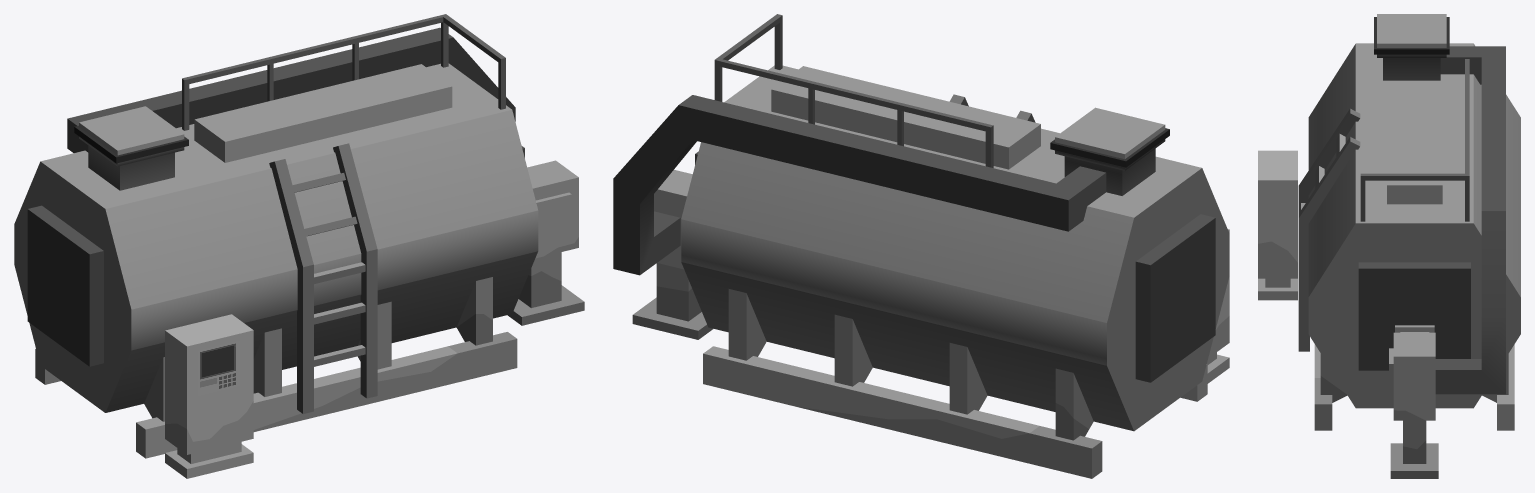
The model's file is AI_Prop_Boiler.fbx.
3 views of the same model, side by side, from view 1: azimuth 30°, elevation 25°; view 2: azimuth 150°, elevation 25°; view 3: azimuth 270°, elevation 25° (orthographic). The views are drawn at different scales.
Visible parts, largest first — view 1: AI_Prop_Boiler; view 2: AI_Prop_Boiler; view 3: AI_Prop_Boiler.
Boxes of the visible parts, x1,y1,x2,y2 form: AI_Prop_Boiler: (14,14,584,478); AI_Prop_Boiler: (613,14,1229,478); AI_Prop_Boiler: (1258,14,1520,478).
Bounding box in the file's own units: 7.69 × 4.12 × 3.76.
